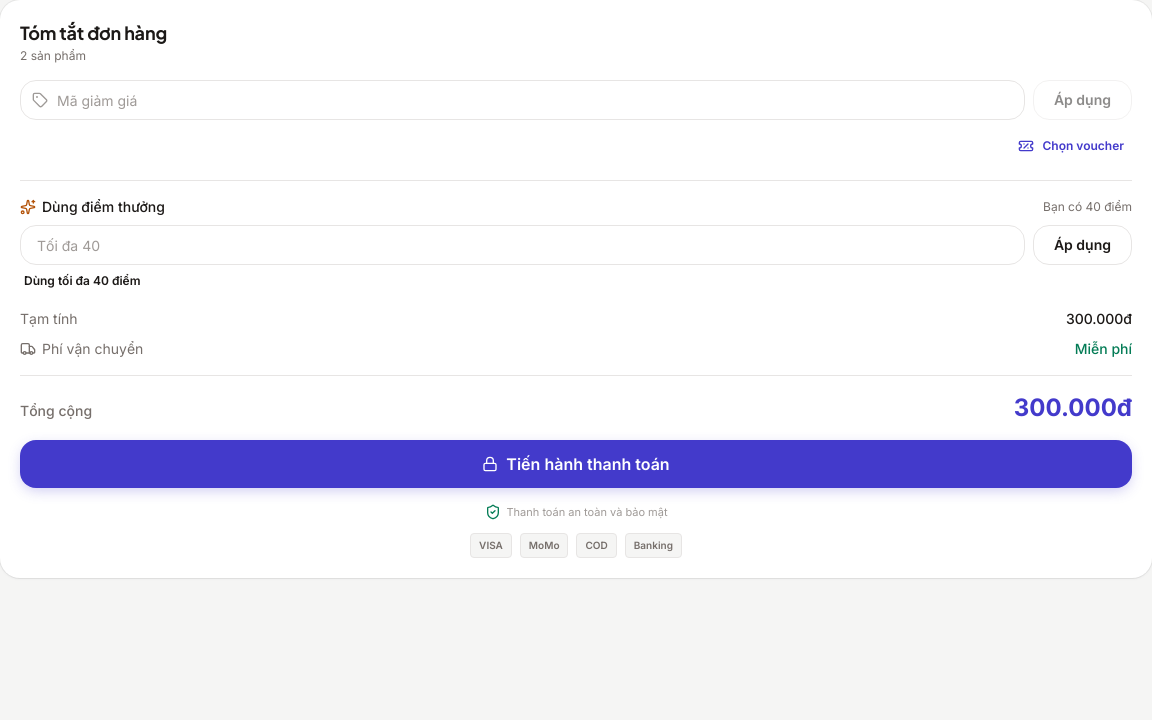
OrderSummaryCard - loyalty points › clamps to the balance and says so
Type "500" into the number field named "Số điểm muốn dùng" at (522,245), box [20,225,1025,265]
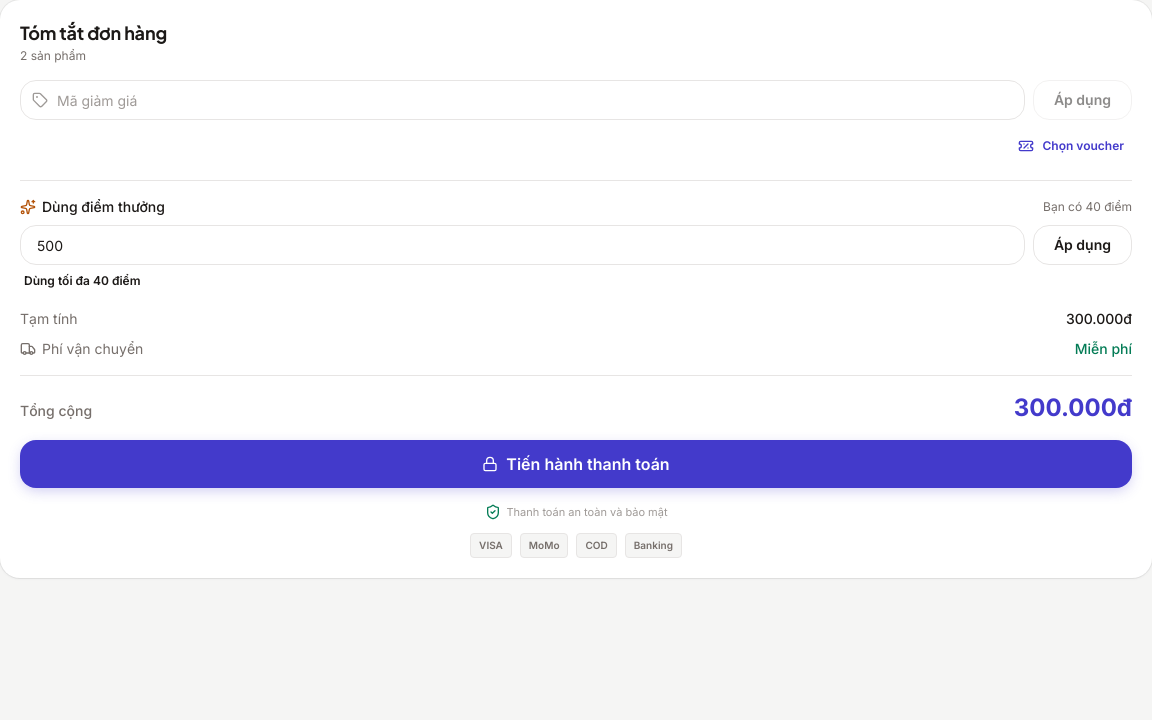
Click the button with aria-label "Áp dụng điểm thưởng" at (1082,245), box [1033,225,1132,265]
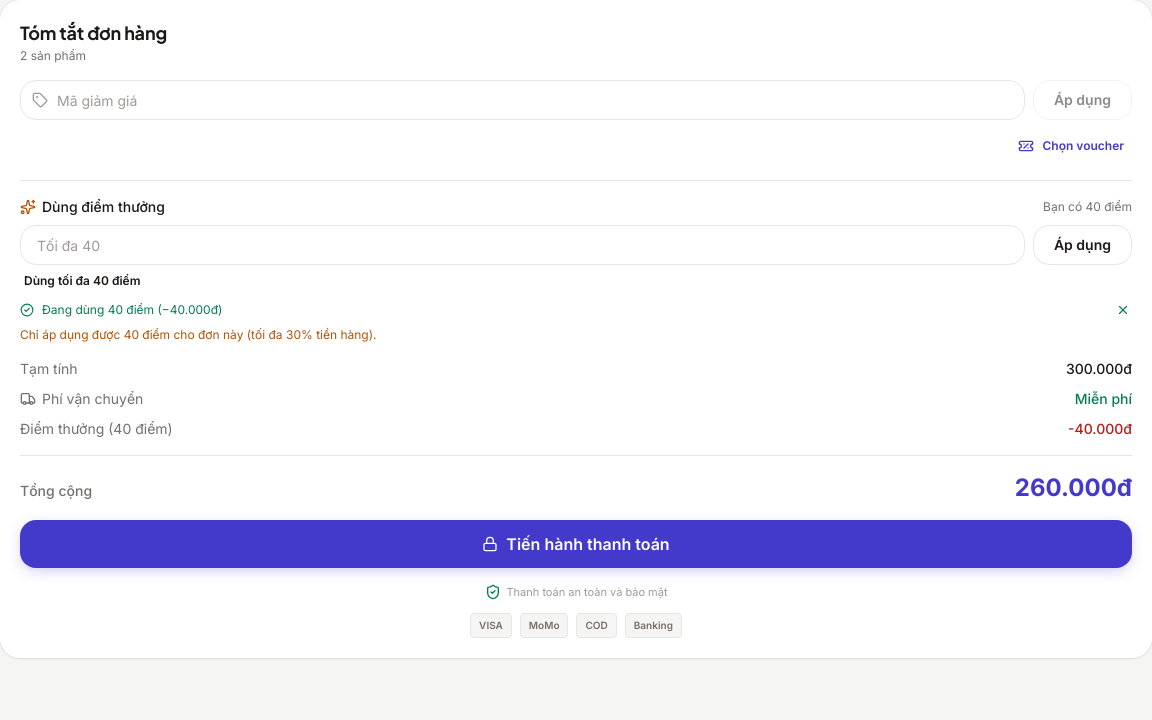
Expected: the text "Chỉ áp dụng được 40 điểm cho đơn này (tối đa 30% tiền hàng)." is shown, [20,327,377,342]
Expected: the text "Đang dùng 40 điểm (−40.000đ)" is shown, [42,302,222,318]
Expected: the text "260.000đ" is shown, [1015,472,1132,504]
